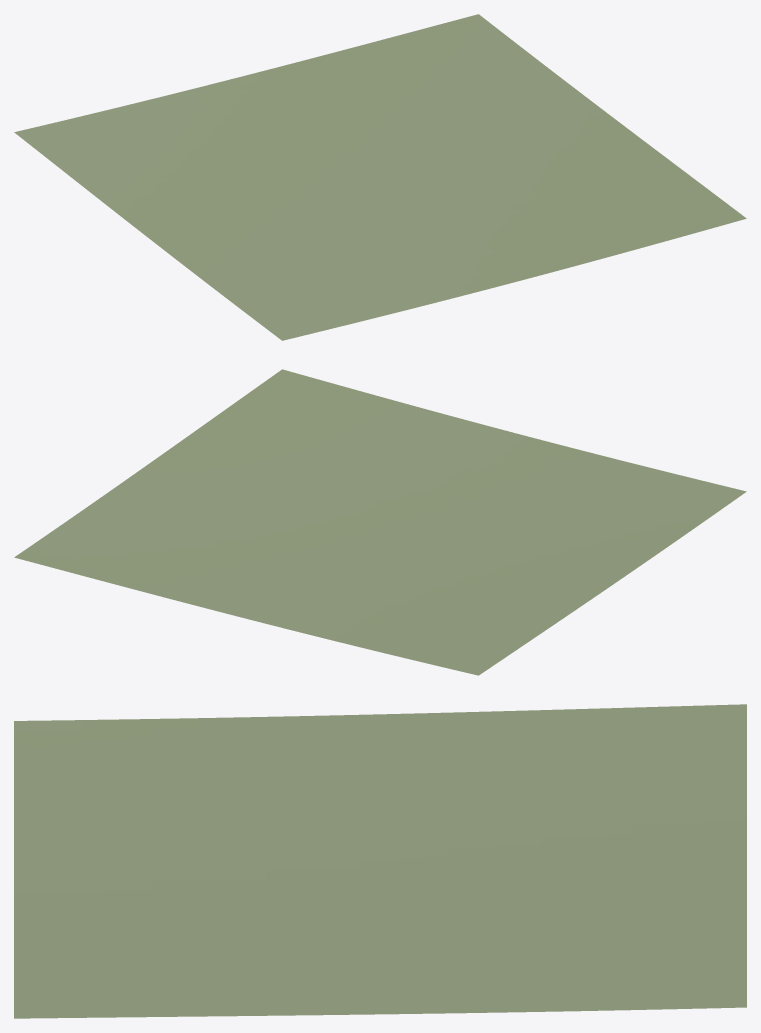
File: expanse-6-2.glb
3 renders of one model, top to bottom at view 1: azimuth 30°, elevation 25°; view 2: azimuth 150°, elevation 25°; view 3: azimuth 270°, elevation 25°, orthographic. The views are drawn at different scales.
Visible parts, largest first — view 1: expanse-6-2; view 2: expanse-6-2; view 3: expanse-6-2.
Part boxes in pixels (x1,y1,x2,y2): expanse-6-2: (14, 14, 746, 340); expanse-6-2: (14, 369, 746, 675); expanse-6-2: (14, 704, 746, 1018).
Size of the model in its own units: 256 by 8.96 by 256.
